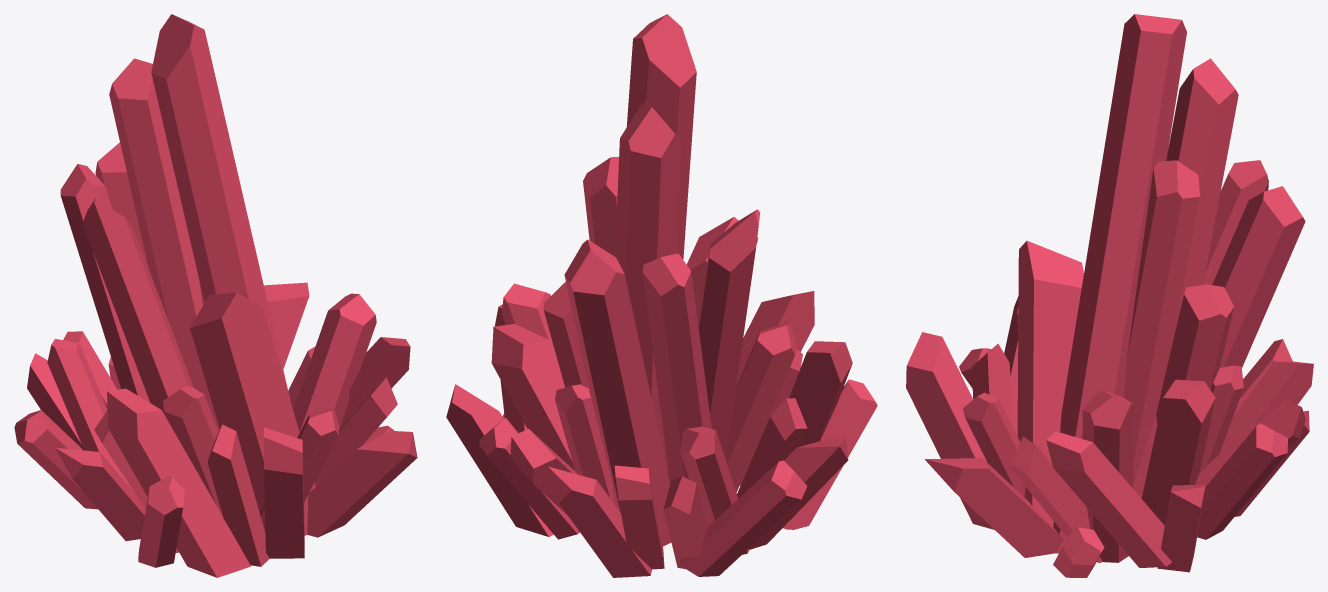
File: SM_Crystal_Medium_1.fbx
The picture shows the model from 3 angles, left to right: view 1: azimuth 30°, elevation 25°; view 2: azimuth 150°, elevation 25°; view 3: azimuth 270°, elevation 25°; orthographic projection. The views are drawn at different scales.
Visible parts, largest first — view 1: SM_Crystal_Medium_1; view 2: SM_Crystal_Medium_1; view 3: SM_Crystal_Medium_1.
Boxes of the visible parts, left/top/right/bottom form: SM_Crystal_Medium_1: left=14, top=14, right=417, bottom=577; SM_Crystal_Medium_1: left=446, top=14, right=877, bottom=577; SM_Crystal_Medium_1: left=906, top=14, right=1313, bottom=577.
Bounding box in the file's own units: 371 × 515 × 379.
